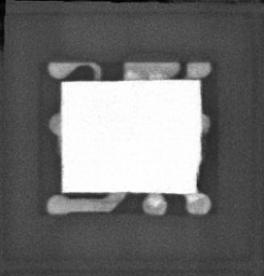DIE_BROKEN: (194, 161, 204, 193)
